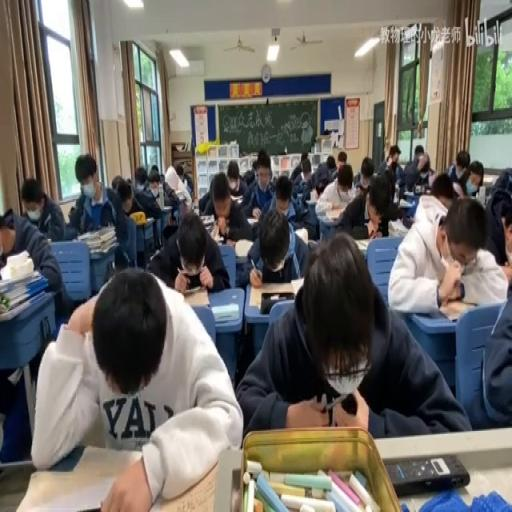calculator: (150, 455, 220, 511), (0, 248, 50, 318), (248, 282, 296, 310), (133, 214, 155, 264), (438, 298, 478, 322), (210, 220, 240, 244), (180, 286, 210, 307), (210, 300, 238, 322), (386, 218, 408, 236), (234, 236, 252, 256), (320, 206, 344, 220), (199, 212, 215, 232), (290, 276, 304, 296), (352, 238, 370, 252), (294, 224, 307, 242), (246, 214, 258, 224), (230, 194, 242, 204), (305, 196, 317, 206), (159, 203, 172, 212), (396, 198, 410, 206), (482, 175, 496, 183), (403, 191, 416, 199), (294, 192, 302, 202), (142, 216, 153, 223), (45, 236, 51, 243)
paper: (33, 268, 241, 510), (238, 233, 466, 438), (462, 268, 510, 430), (70, 154, 134, 270), (147, 206, 228, 292), (241, 202, 308, 287), (333, 166, 391, 235), (15, 176, 72, 245), (483, 172, 512, 266), (242, 151, 277, 219), (196, 162, 226, 213), (298, 154, 333, 196), (400, 145, 430, 192), (114, 174, 142, 214), (378, 142, 404, 185), (221, 157, 246, 199), (429, 170, 455, 208), (448, 148, 472, 188), (0, 204, 15, 262), (156, 168, 178, 205), (358, 162, 373, 192), (66, 202, 82, 230), (337, 164, 353, 192), (467, 166, 482, 190), (183, 171, 194, 199), (147, 163, 160, 185), (242, 166, 256, 185), (174, 164, 184, 180), (326, 154, 335, 170), (337, 151, 346, 166), (420, 158, 429, 173), (135, 179, 146, 189), (250, 158, 256, 169), (301, 154, 307, 165), (125, 176, 131, 185), (158, 174, 163, 184)
person: (386, 452, 470, 494), (350, 225, 368, 239)
